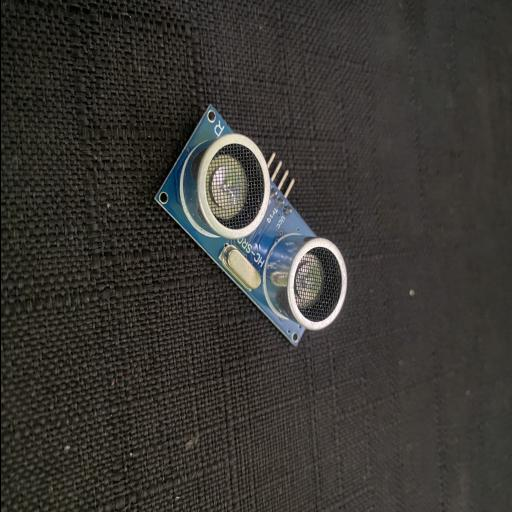Ultrasonic Sensor: (152, 102, 346, 347)
